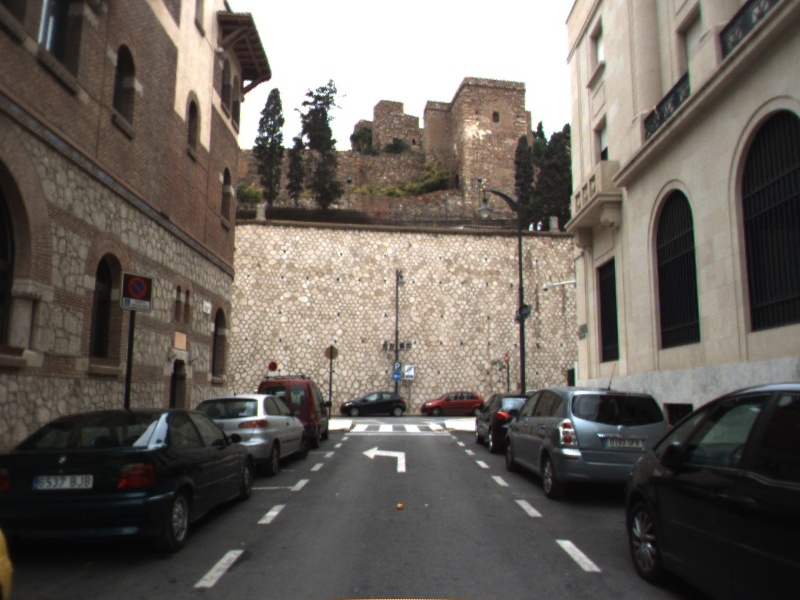LEFT: (361, 444, 408, 474)
